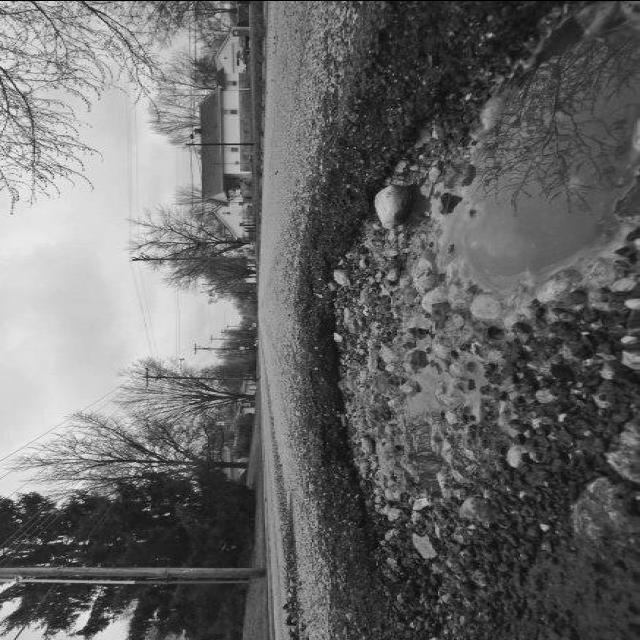lubang: (304, 51, 638, 615)
